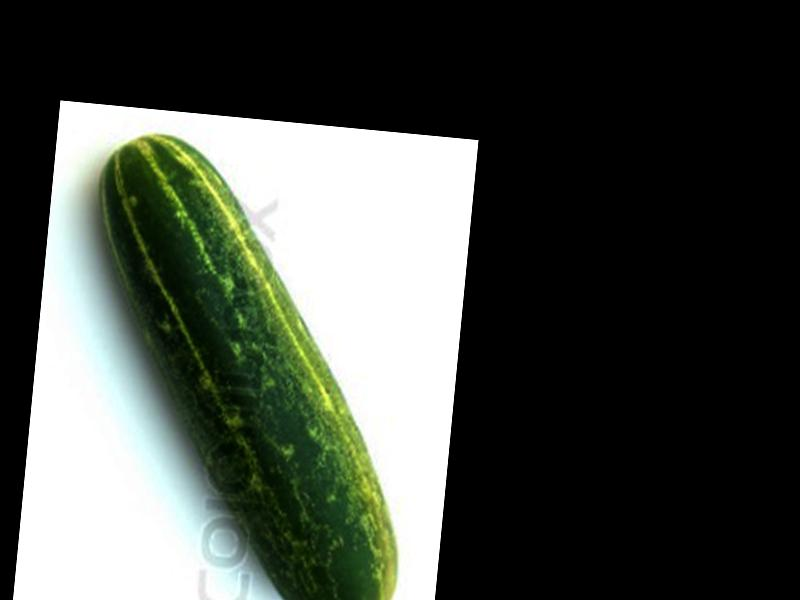Cucumber: (62, 126, 439, 600)
